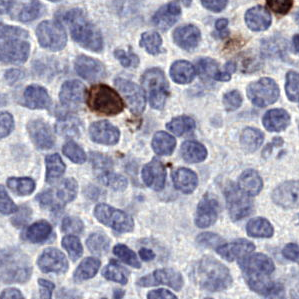Lymphocyte: (86, 83, 125, 117)
